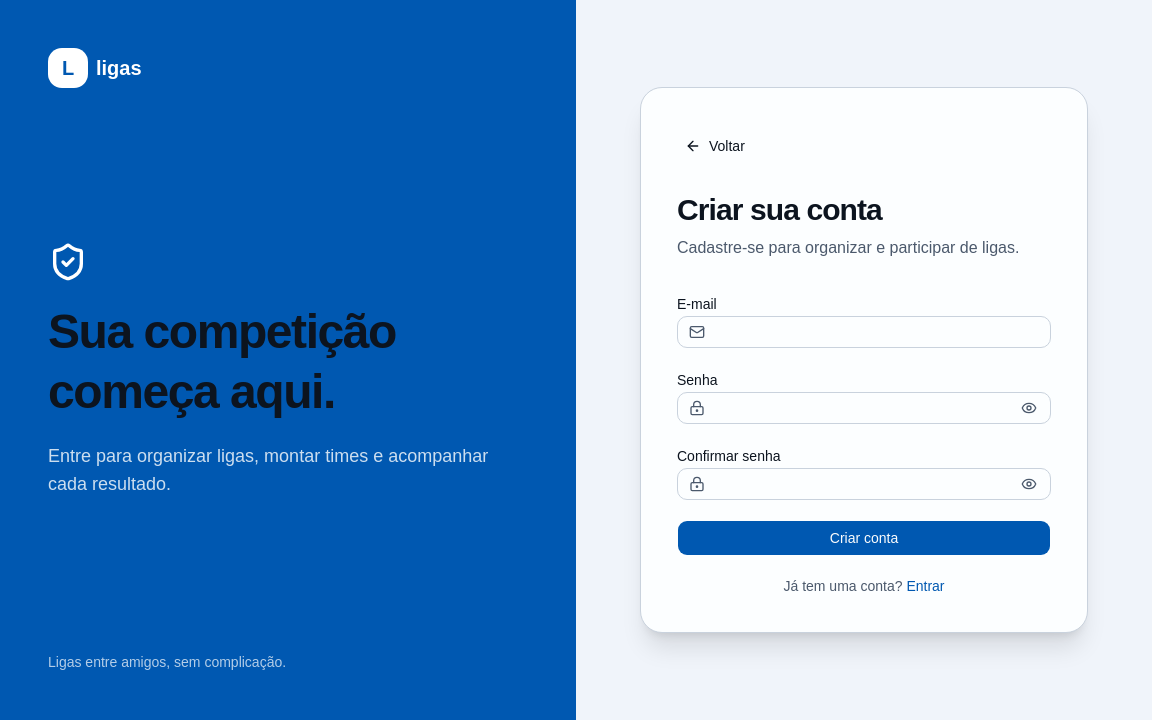
it: authentication pages › shows email confirmation as a successful registration state
The image size is (1152, 720).
Type "new@test.local" into the field labelled "E-mail".
click(864, 332); type("new@test.local")  # box x1=677 y1=316 x2=1051 y2=348
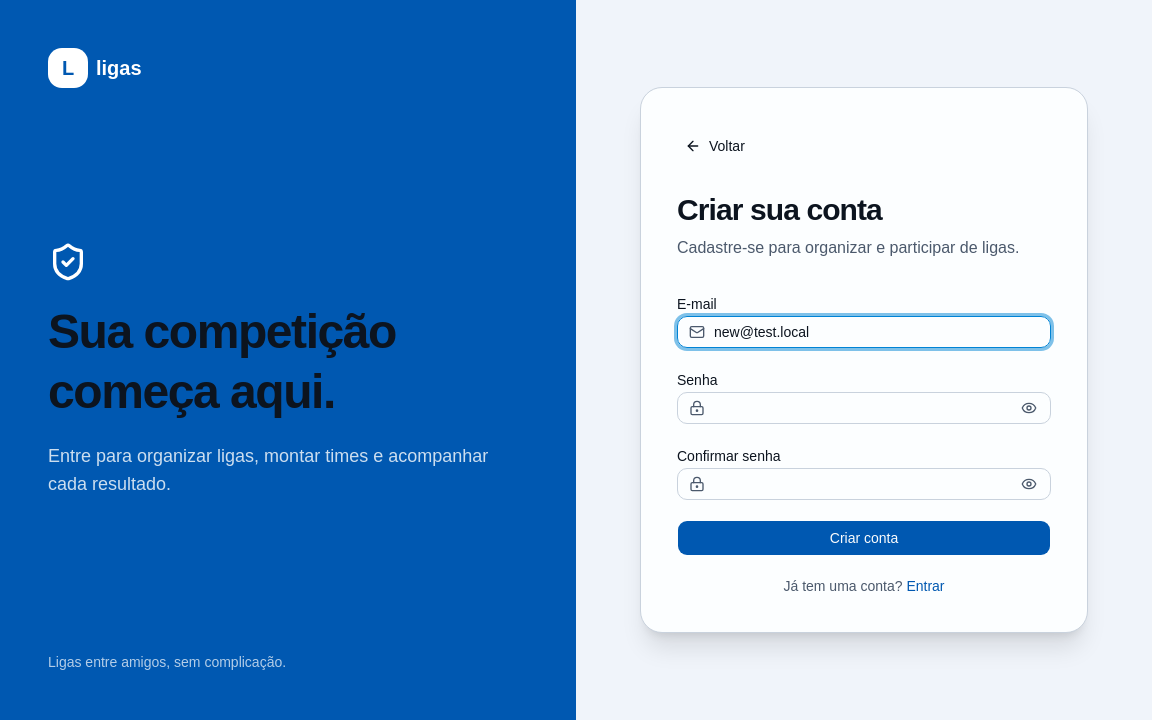
Type "long-password" into the password field labelled "Senha".
click(864, 408); type("long-password")  # box x1=677 y1=392 x2=1051 y2=424
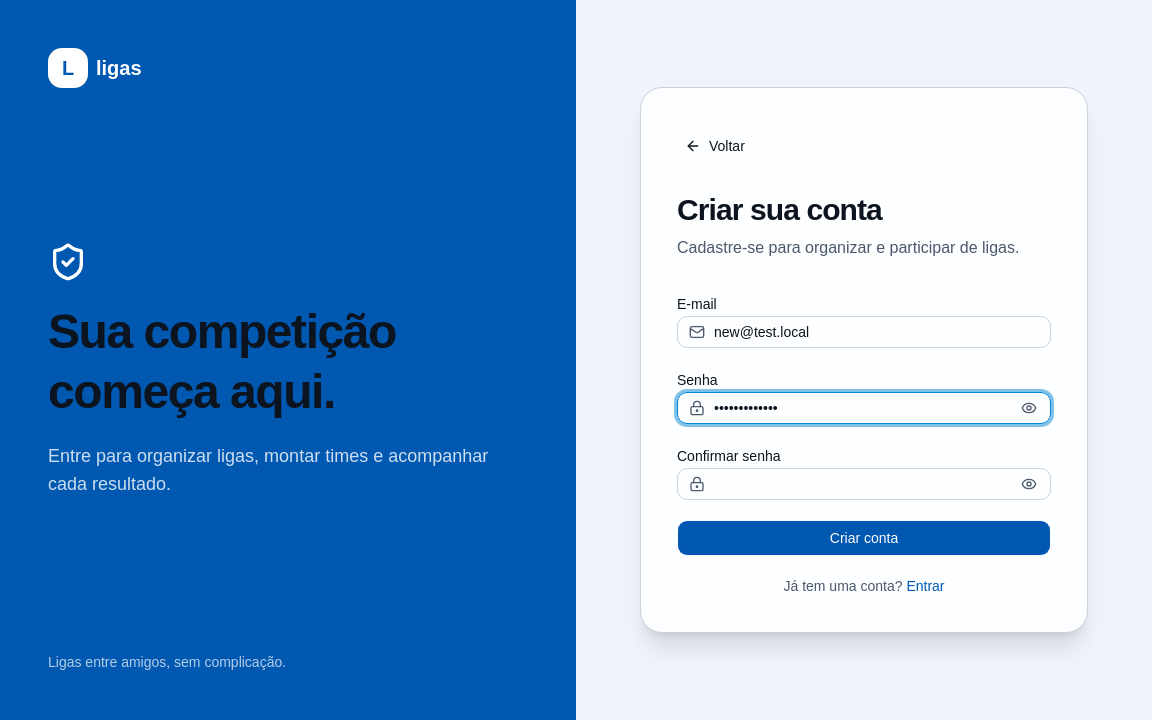
Type "long-password" into the password field labelled "Confirmar senha".
click(864, 484); type("long-password")  # box x1=677 y1=468 x2=1051 y2=500
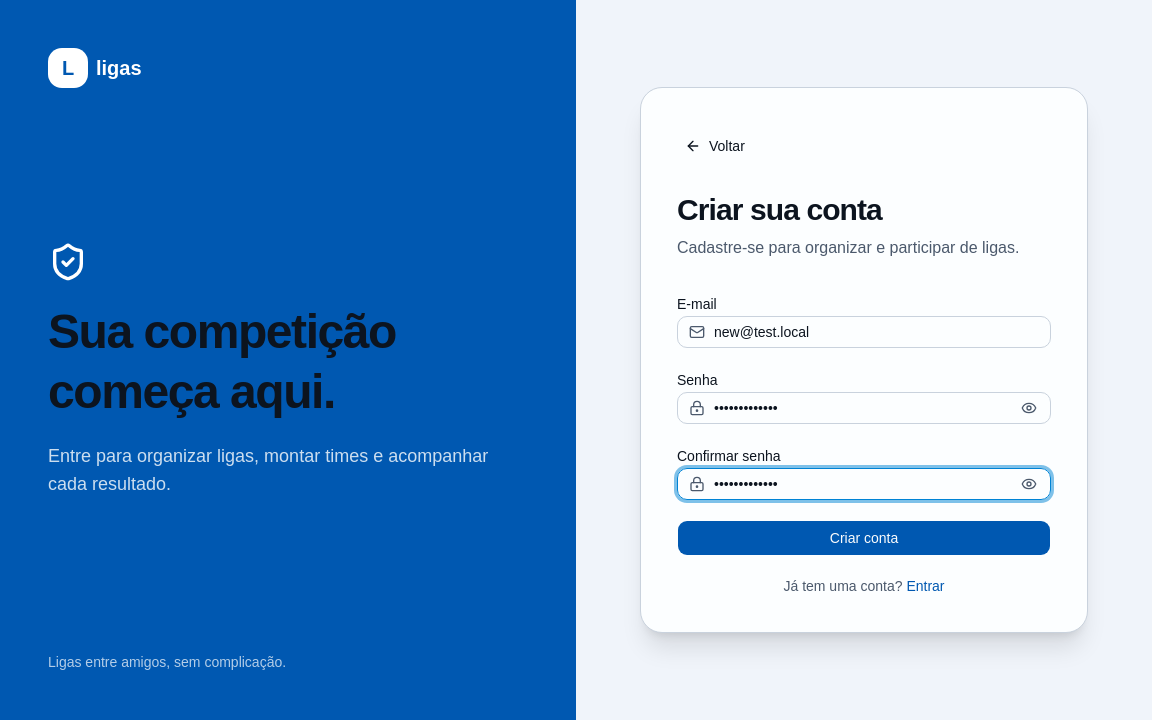
Click the button "Criar conta".
click(864, 538)  # box x1=677 y1=520 x2=1051 y2=556
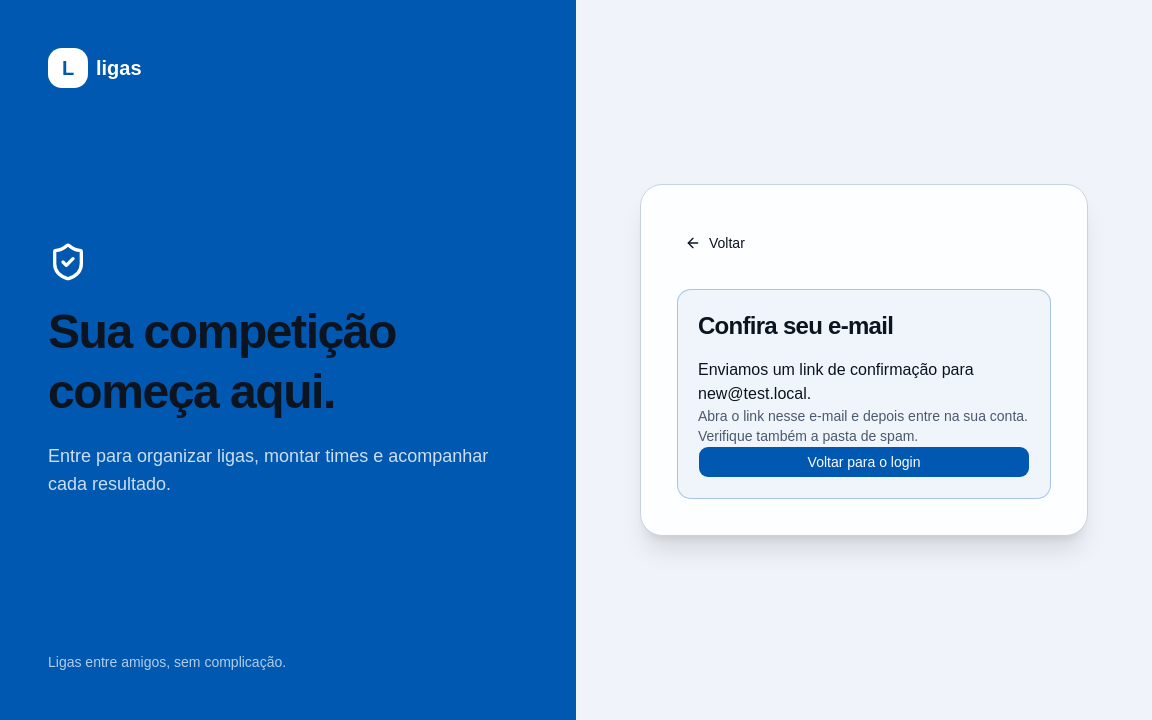
Now the message shows "Enviamos um link de confirmação para new@test.local", box x1=698 y1=361 x2=974 y2=402
